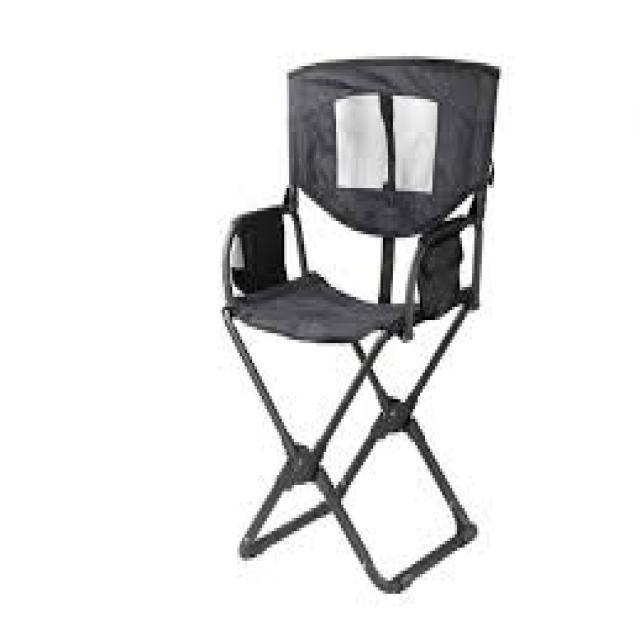chair: (160, 25, 528, 613)
